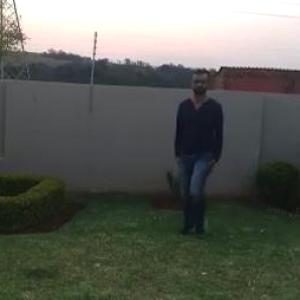follow: (170, 67, 226, 239)
